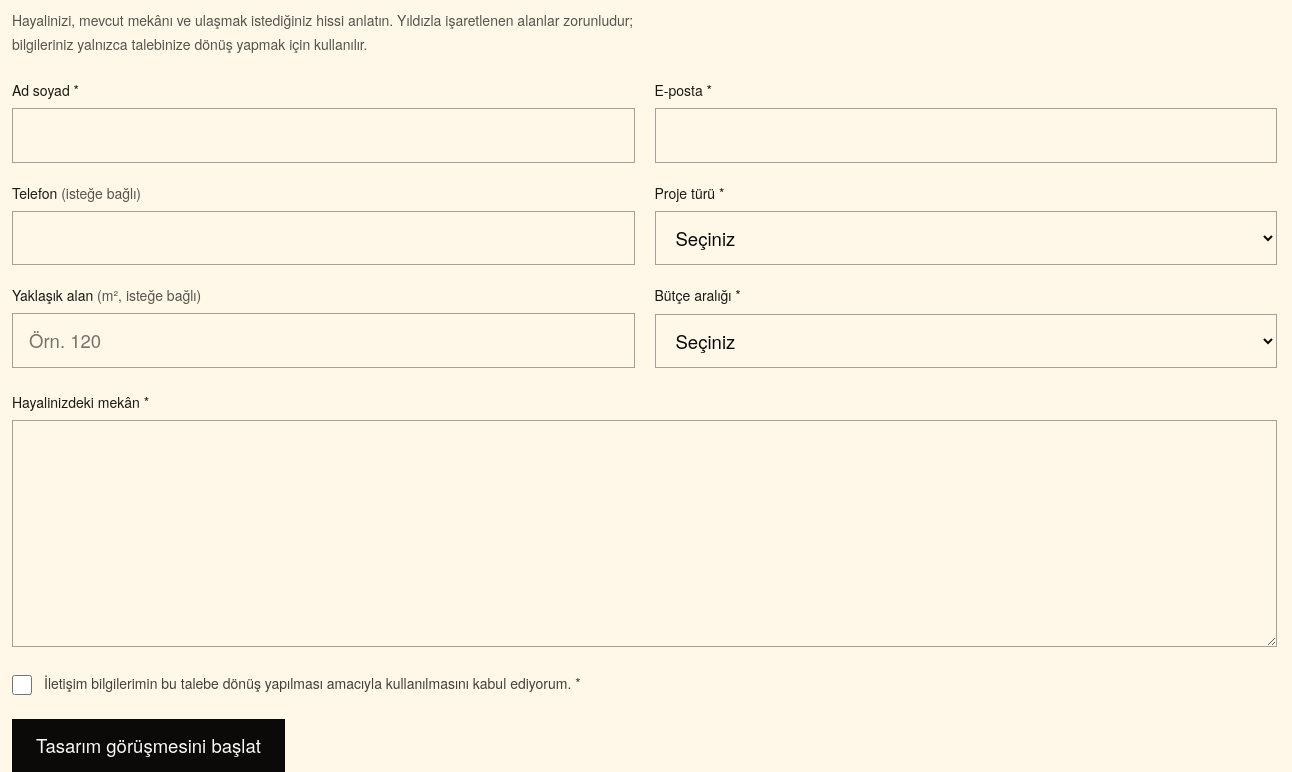
ContactForm › announces accessible validation errors
Click the button "Tasarım görüşmesini başlat".
click(148, 746)  # box [12, 719, 285, 771]
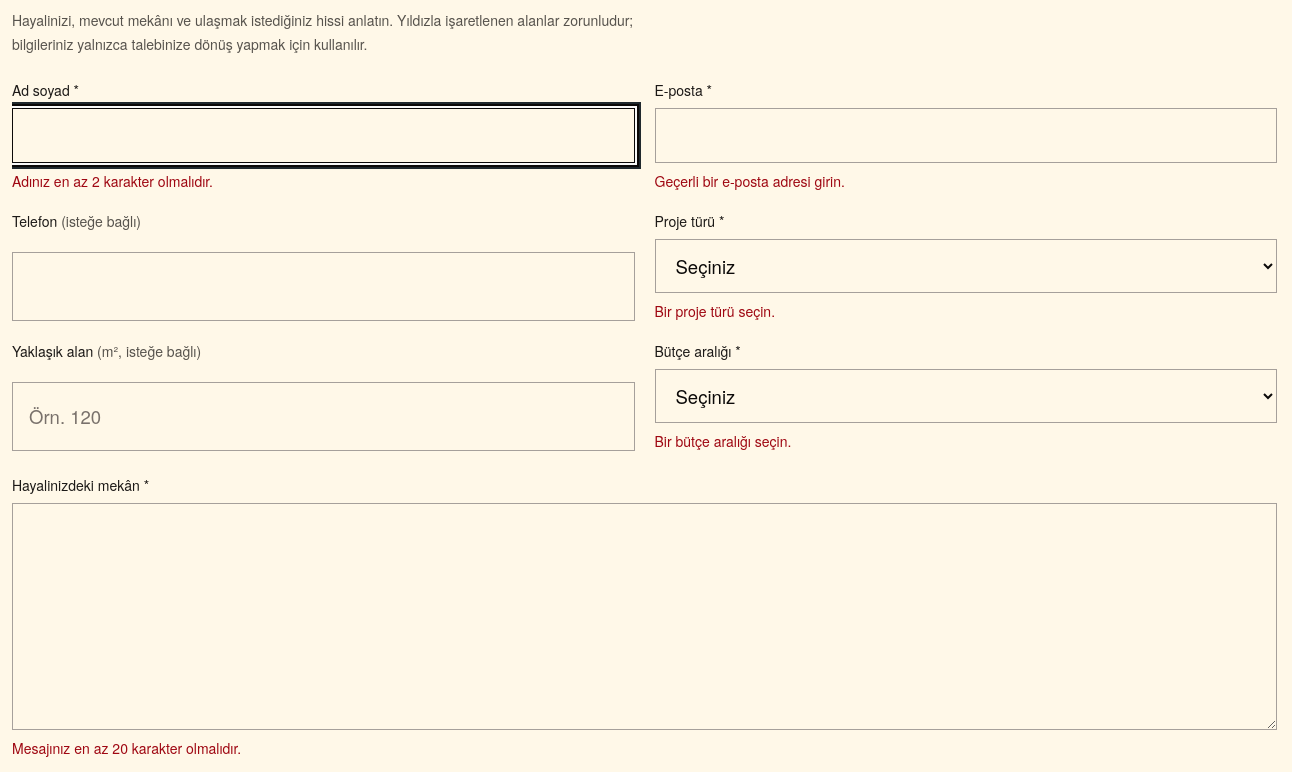
Expected: the text "Geçerli bir e-posta adresi girin." is shown, [654, 171, 845, 191]
Expected: the text "Bir proje türü seçin." is shown, [654, 301, 775, 321]
Expected: the text "Bir bütçe aralığı seçin." is shown, [654, 431, 791, 451]
